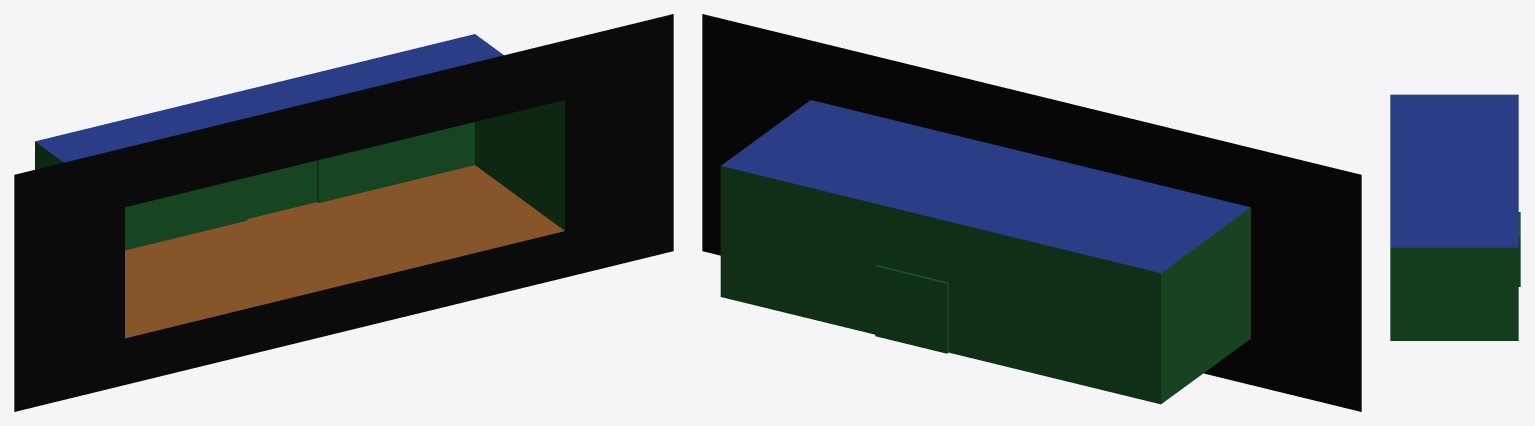
File: taxidermy huone.fbx
3 renders of one model, left to right at view 1: azimuth 30°, elevation 25°; view 2: azimuth 150°, elevation 25°; view 3: azimuth 270°, elevation 25°, orthographic. The views are drawn at different scales.
Parts seen in each view (by area): view 1: Cube.002; view 2: Cube.002; view 3: Cube.002.
Boxes of the visible parts, x1=… form: Cube.002: x1=14, y1=14, x2=673, y2=411; Cube.002: x1=702, y1=14, x2=1361, y2=411; Cube.002: x1=1390, y1=94, x2=1520, y2=340.
Bounding box in the file's own units: 6592 × 2267 × 1588.
